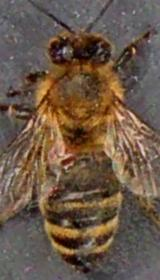varroa_mite: (52, 142, 83, 178)
